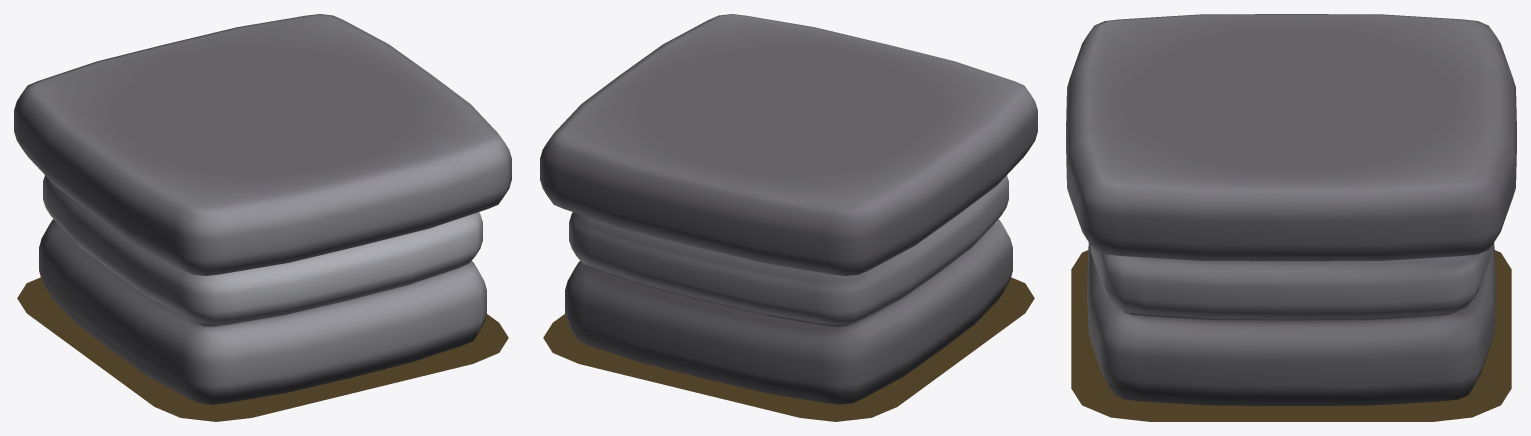
File: daruma_base.fbx
3 renders of one model, left to right at view 1: azimuth 30°, elevation 25°; view 2: azimuth 150°, elevation 25°; view 3: azimuth 270°, elevation 25°, orthographic. The views are drawn at different scales.
Visible parts, largest first — view 1: daruma01; view 2: daruma01; view 3: daruma01.
Part boxes in pixels (<box>): daruma01: <box>14,14,511,421</box>; daruma01: <box>540,14,1037,421</box>; daruma01: <box>1066,14,1516,421</box>.
Size of the model in its own units: 189 by 106 by 189.
